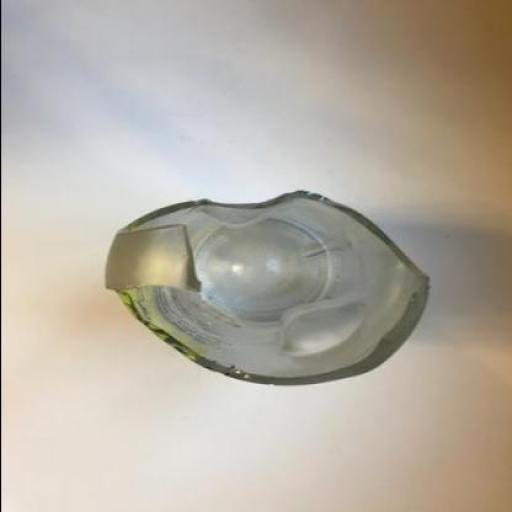glass: (106, 192, 431, 386)
